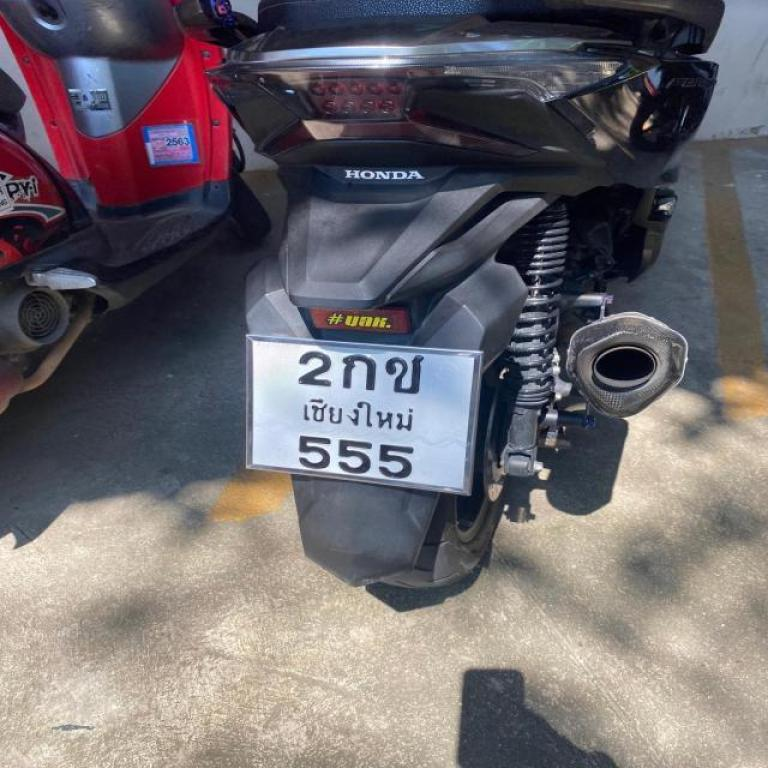license plate: (242, 324, 483, 507)
